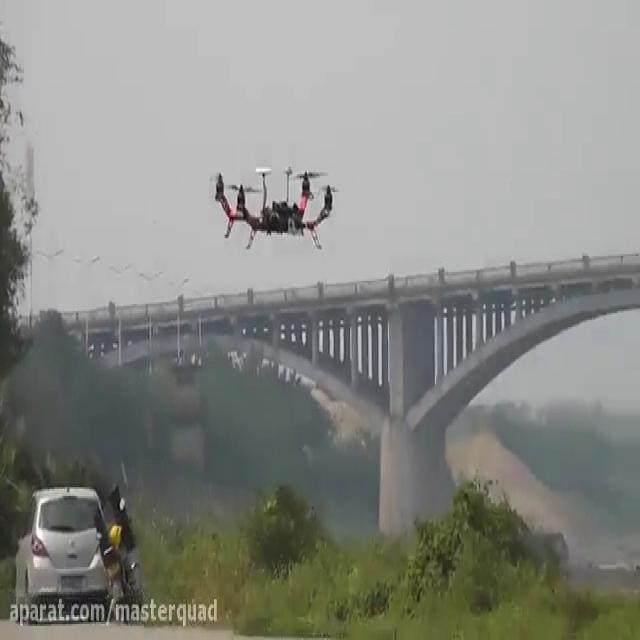drone: (204, 162, 342, 252)
